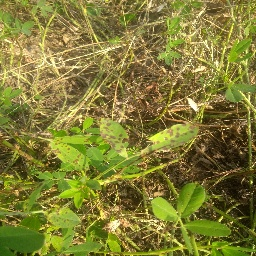GroundNut_Leaf: (143, 123, 200, 155), (98, 116, 131, 154), (1, 225, 45, 252), (49, 140, 88, 170), (177, 182, 205, 216), (185, 220, 232, 238), (47, 206, 82, 228), (150, 195, 176, 222), (224, 86, 242, 104)
